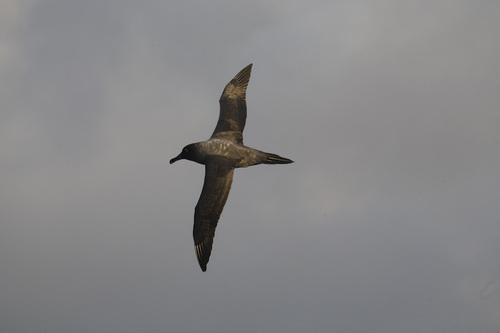bird: (168, 63, 294, 272)
